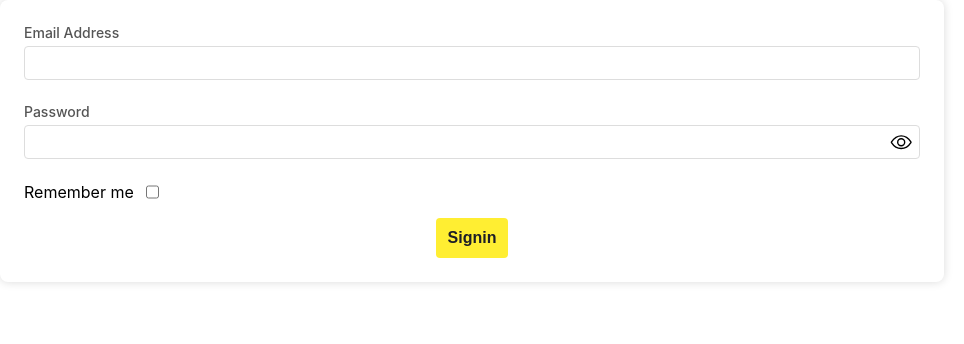
Test: SigninForm - PAGE - COMPONENT › should show validation errors on invalid input
Click the button "Signin". click: click(472, 238)
box: [436,218,508,258]
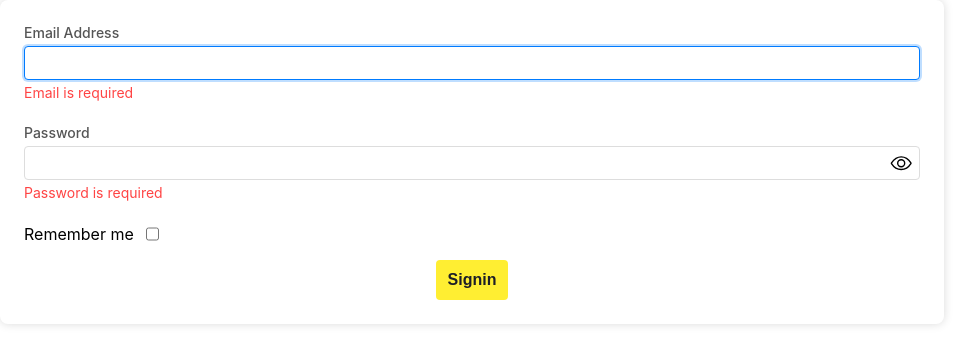
Expected: the text "Email is required" is shown, [24,84,133,101]
Expected: the text "Password is required" is shown, [24,184,163,201]
